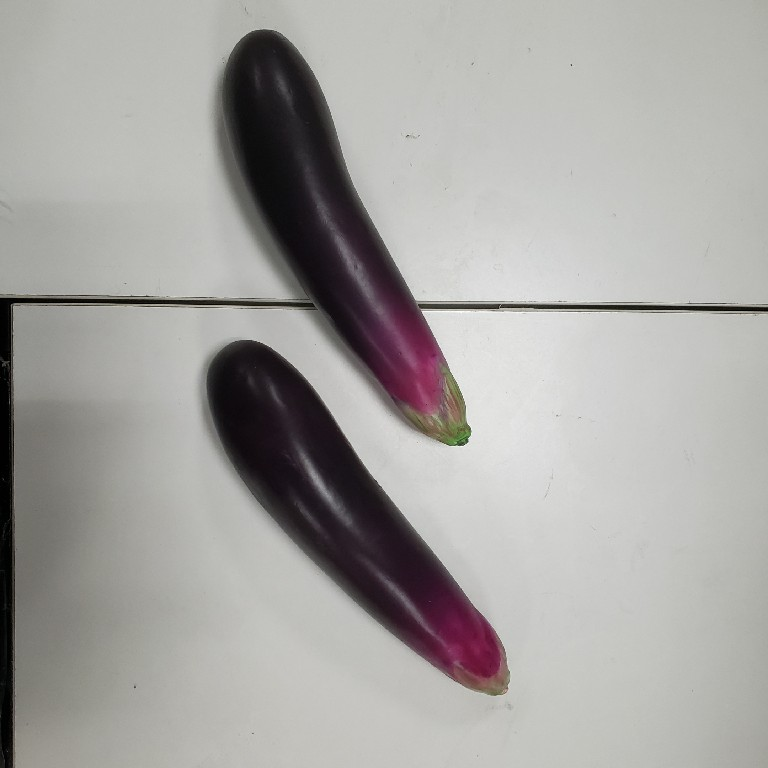fruit_eggplant: (203, 335, 518, 704), (217, 19, 479, 451)
